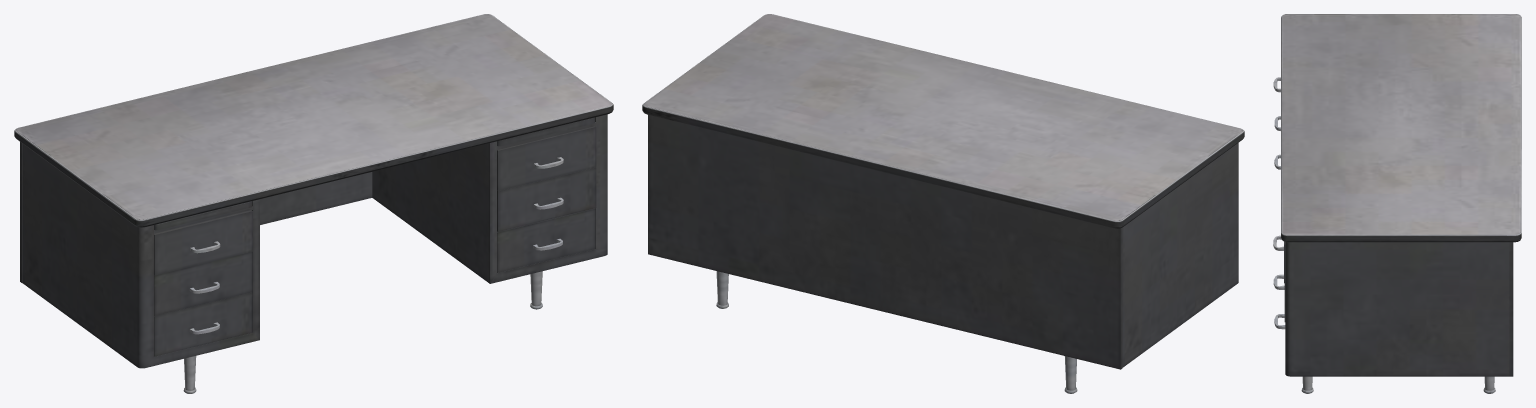
The model's file is schreibtisch.glb.
3 renders of one model, left to right at view 1: azimuth 30°, elevation 25°; view 2: azimuth 150°, elevation 25°; view 3: azimuth 270°, elevation 25°, orthographic. The views are drawn at different scales.
Parts seen in each view (by area): view 1: metal_office_desk_drawer_06; view 2: metal_office_desk_drawer_06; view 3: metal_office_desk_drawer_06.
Part boxes in pixels (x1,y1,x2,y2): metal_office_desk_drawer_06: (14,14,613,393); metal_office_desk_drawer_06: (642,14,1244,393); metal_office_desk_drawer_06: (1273,14,1521,393).
Bounding box in the file's own units: 2 × 0.7874 × 0.9469.
1 material, 1 textured.
